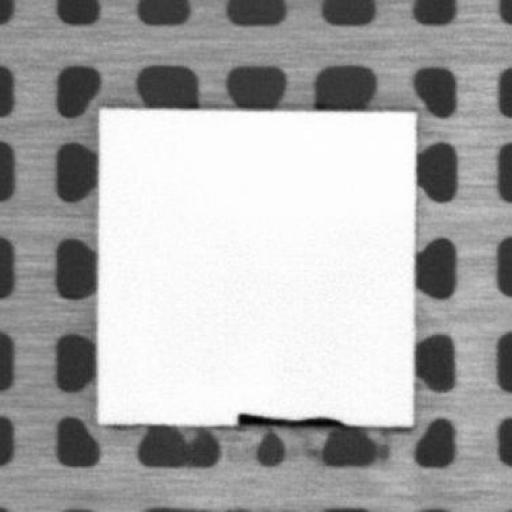DIE_BROKEN: (232, 409, 346, 430)
